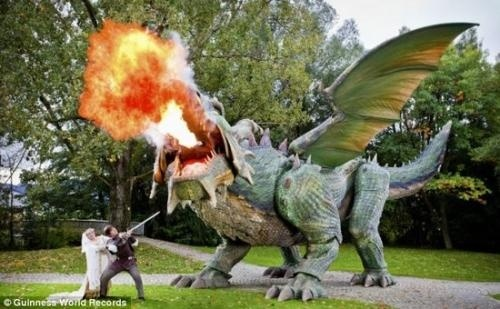fire: (79, 17, 202, 152)
